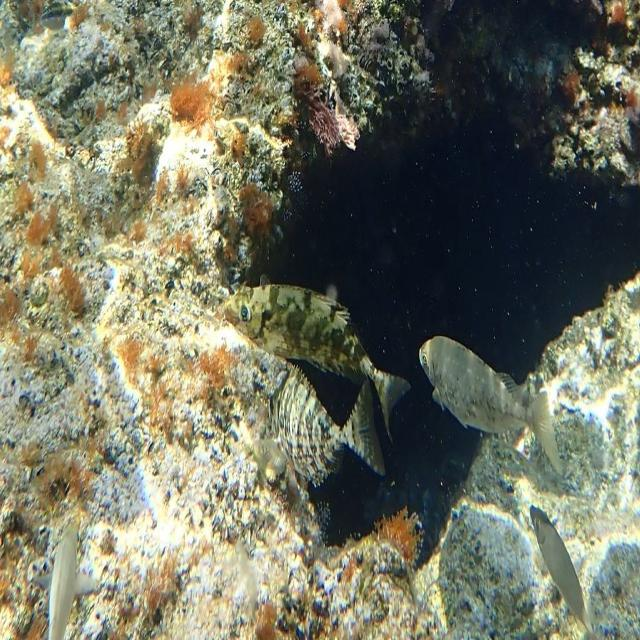Sokar Baligi: (212, 272, 410, 444), (416, 318, 569, 483), (522, 496, 604, 640)
